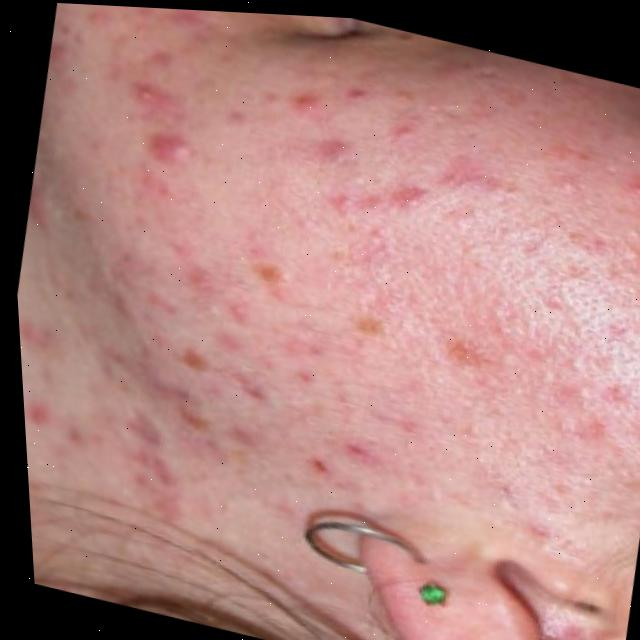Acne: (2, 31, 638, 531)
